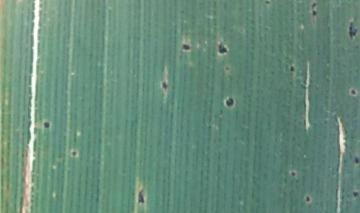tarspot: (132, 184, 146, 205), (220, 94, 238, 110), (215, 40, 231, 56), (158, 77, 170, 94), (179, 38, 193, 52), (348, 20, 358, 39), (287, 168, 299, 182), (41, 120, 54, 131), (347, 86, 358, 98), (68, 147, 80, 158), (223, 62, 232, 74), (287, 63, 297, 73), (302, 193, 312, 203), (307, 1, 319, 9), (353, 188, 360, 200), (311, 9, 319, 17), (354, 157, 360, 164), (264, 1, 272, 6)
